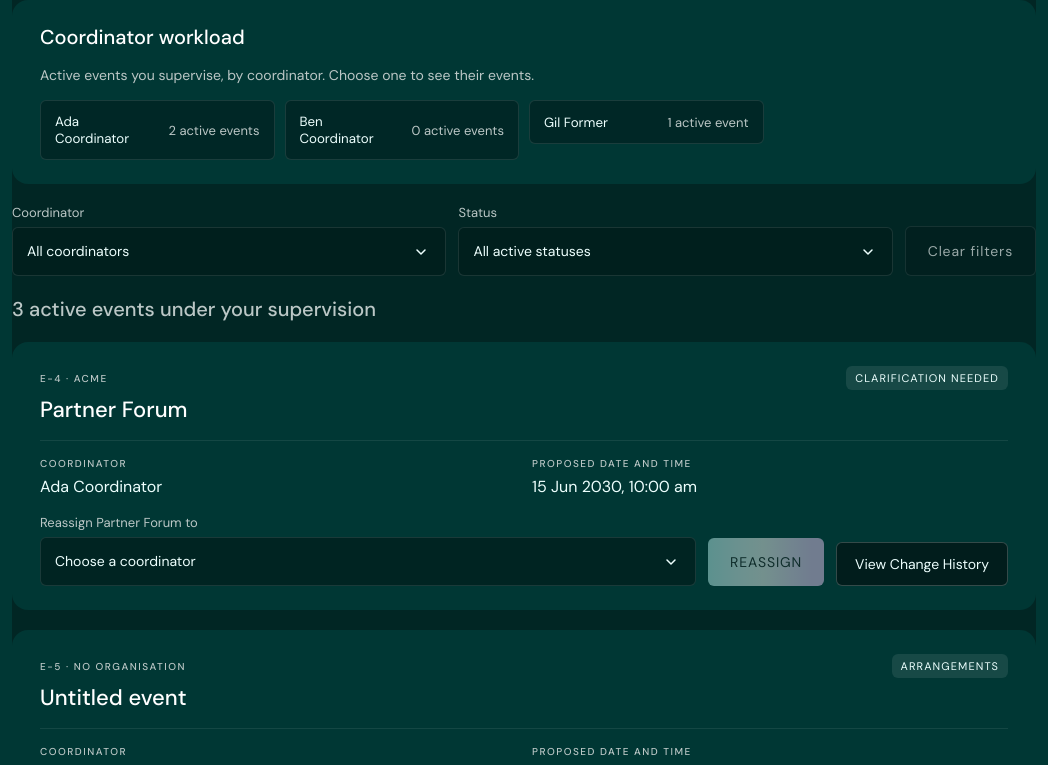
CoordinatorOverview (SG2-89) › [NORMAL] [SG2-89:AC6] reassigns an event awaiting clarification and says it kept its status
Expected: the button "Reassign" is disabled, [708, 538, 824, 586]
Select "Ben Coordinator" in the dropdown labelled "Reassign Partner Forum to" at (368, 562), box [40, 537, 696, 586]
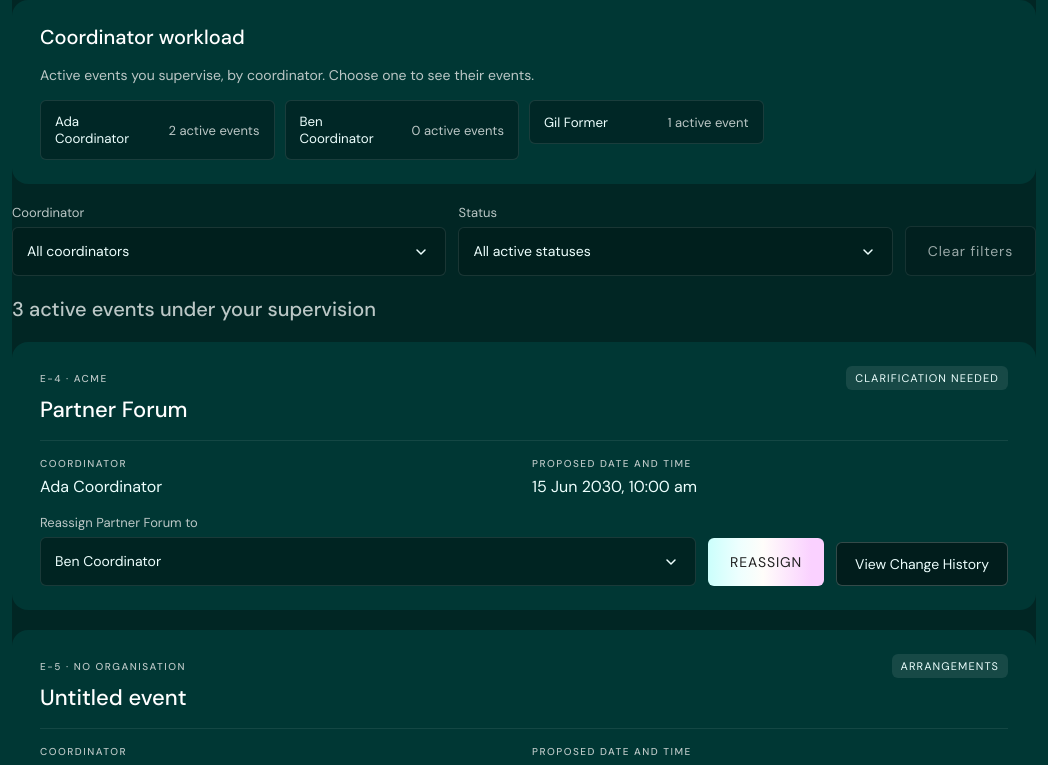
Click the button "Reassign" at (766, 562), box [708, 538, 824, 586]
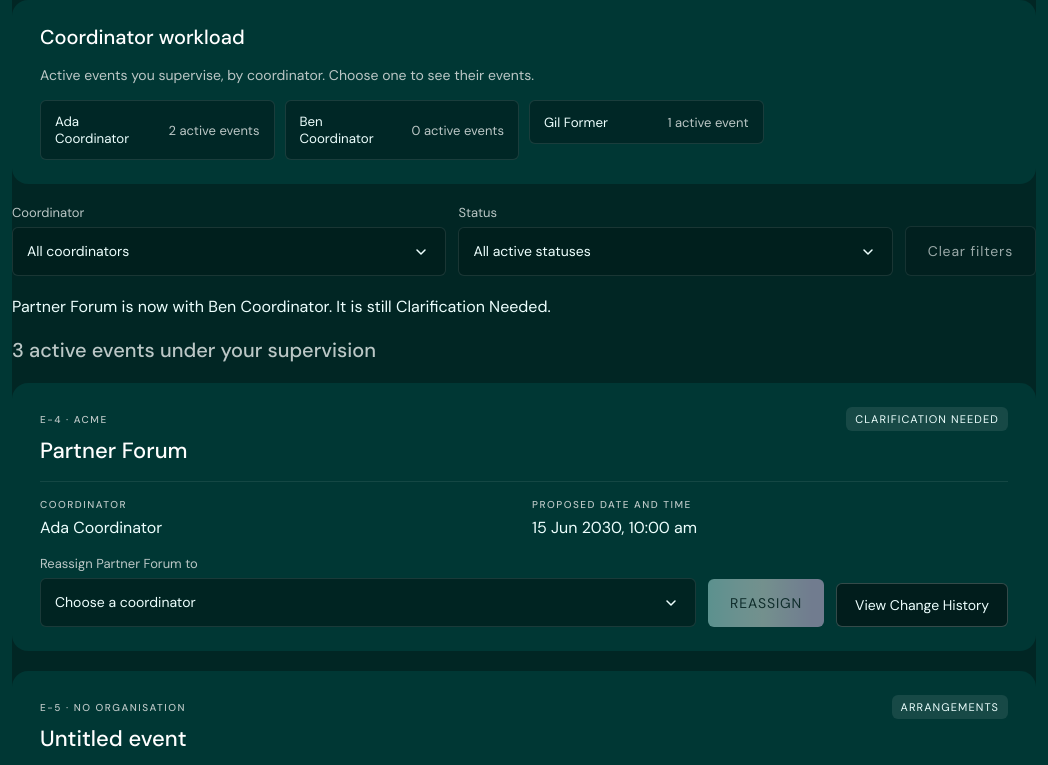
Now the text "Partner Forum is now with Ben Coordinator. It is still Clarification Needed." is shown, box [12, 296, 551, 317]
